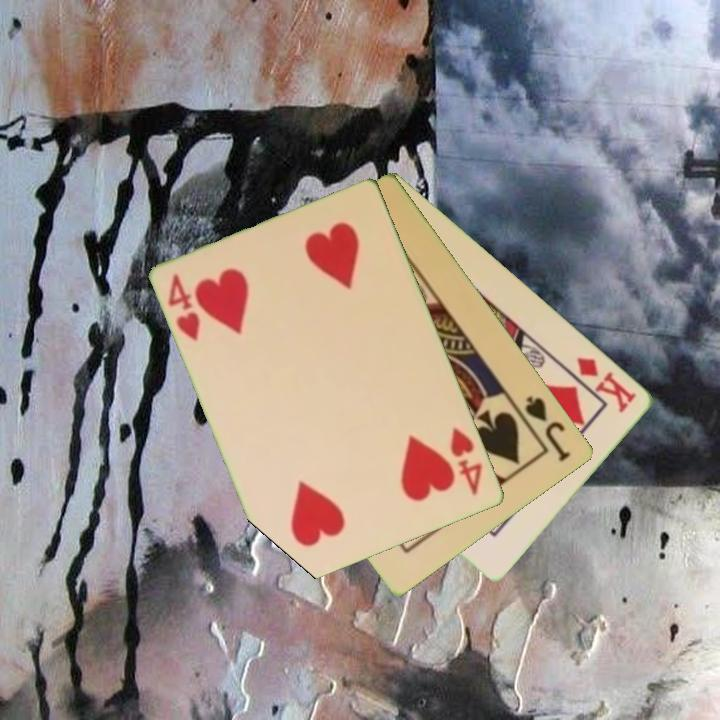4h: (164, 270, 204, 344), (447, 424, 486, 498)
Js: (522, 392, 574, 465)
Kd: (573, 353, 640, 416)
